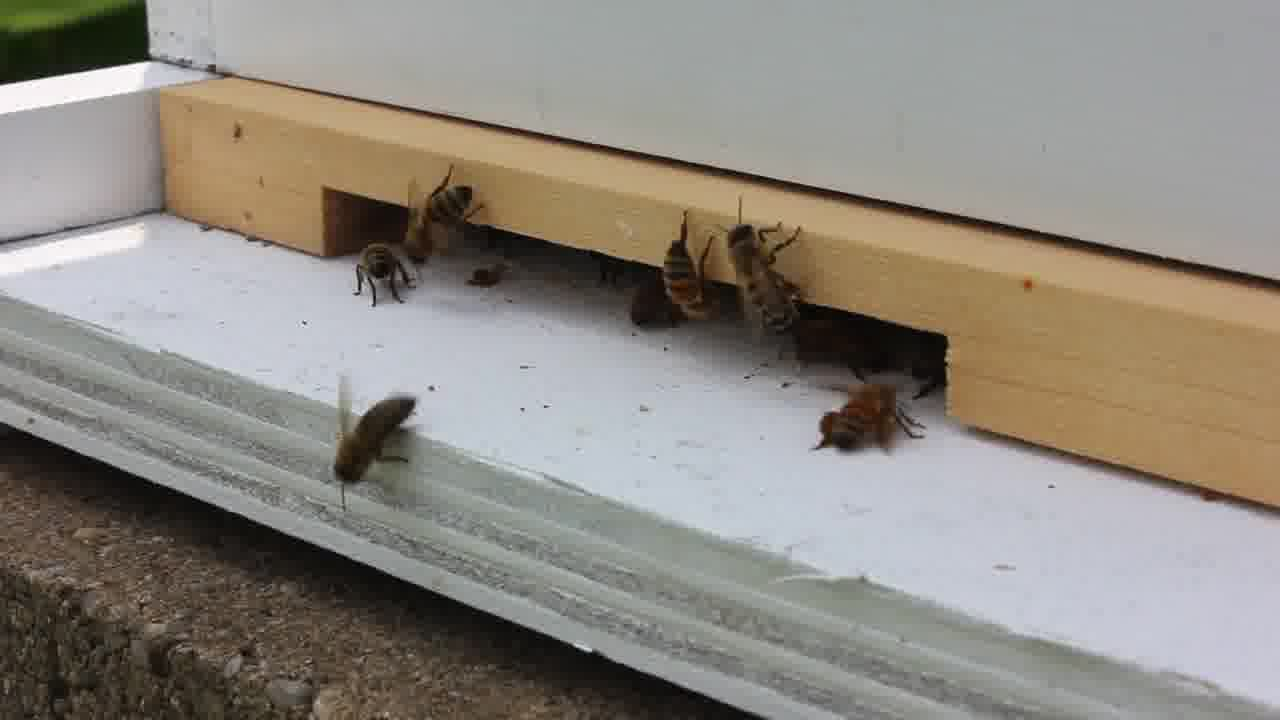pollen: (815, 381, 923, 461)
